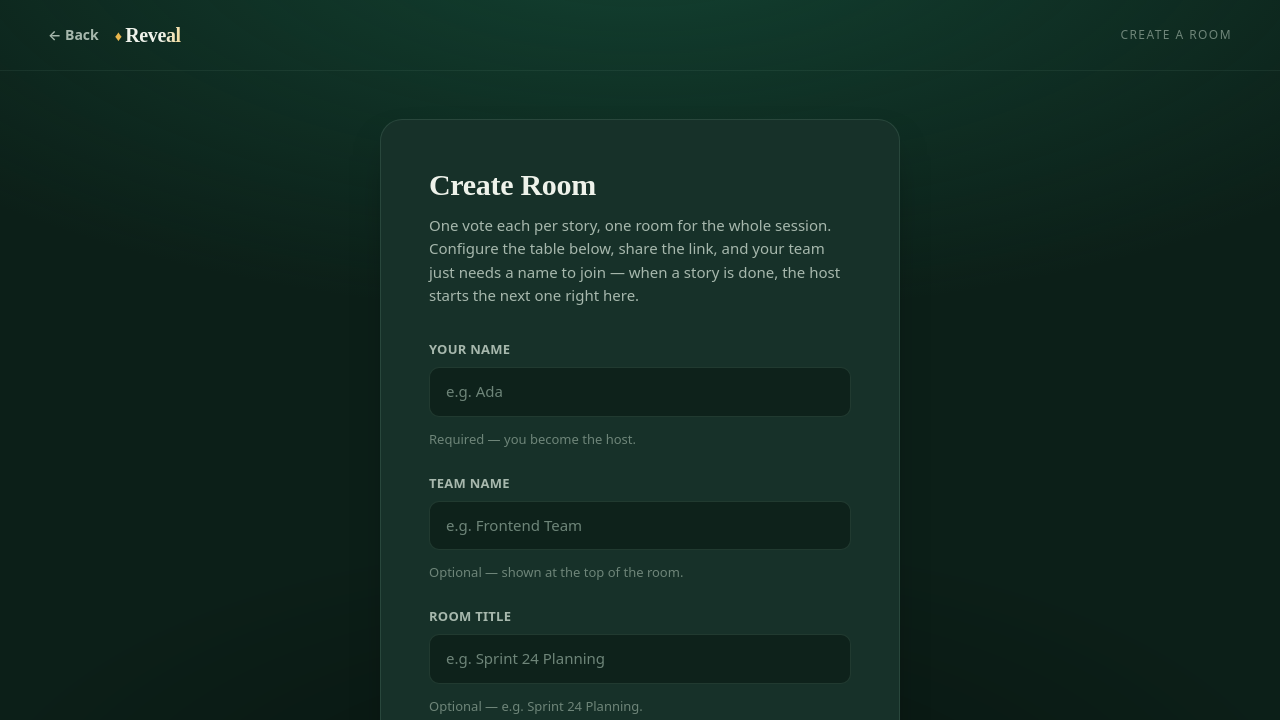
it: CreatePage › shows a friendly server error when creation fails
In the field labelled "Your Name": (640, 392) [429,367,851,417], type "Ada"
(page scrolled)
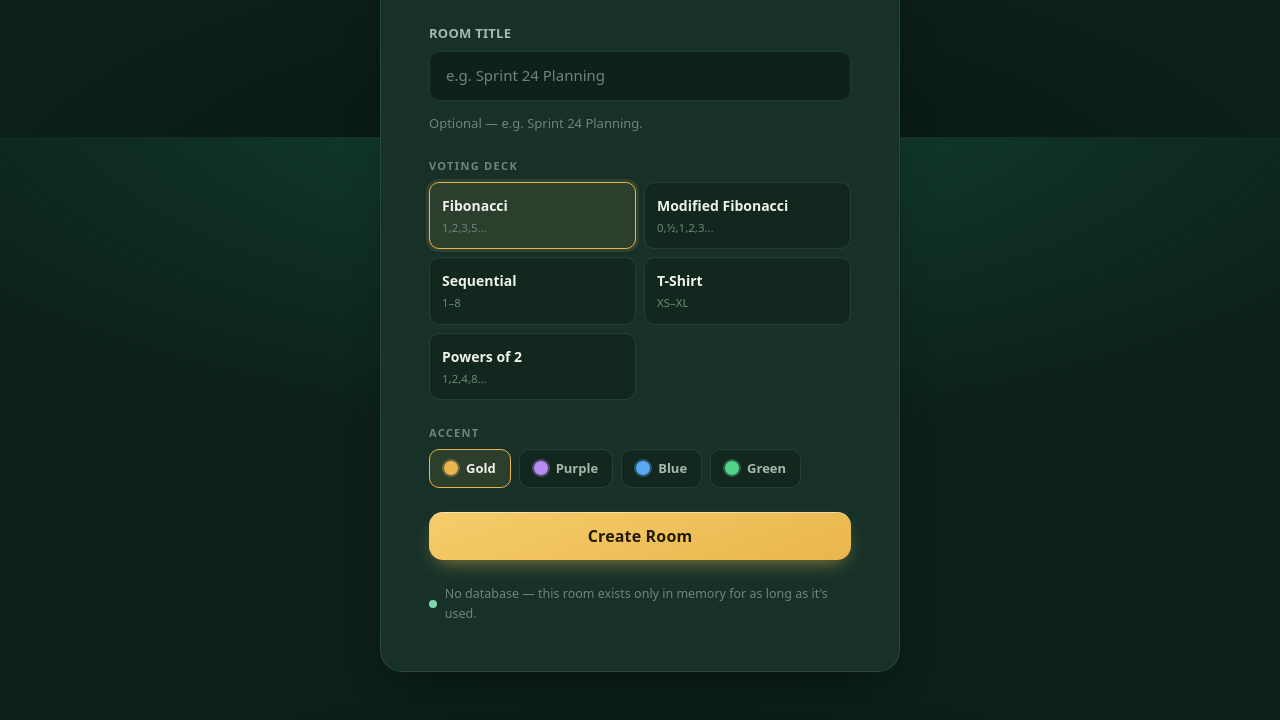
Click the button "Create Room": click(640, 536) [429,512,851,560]
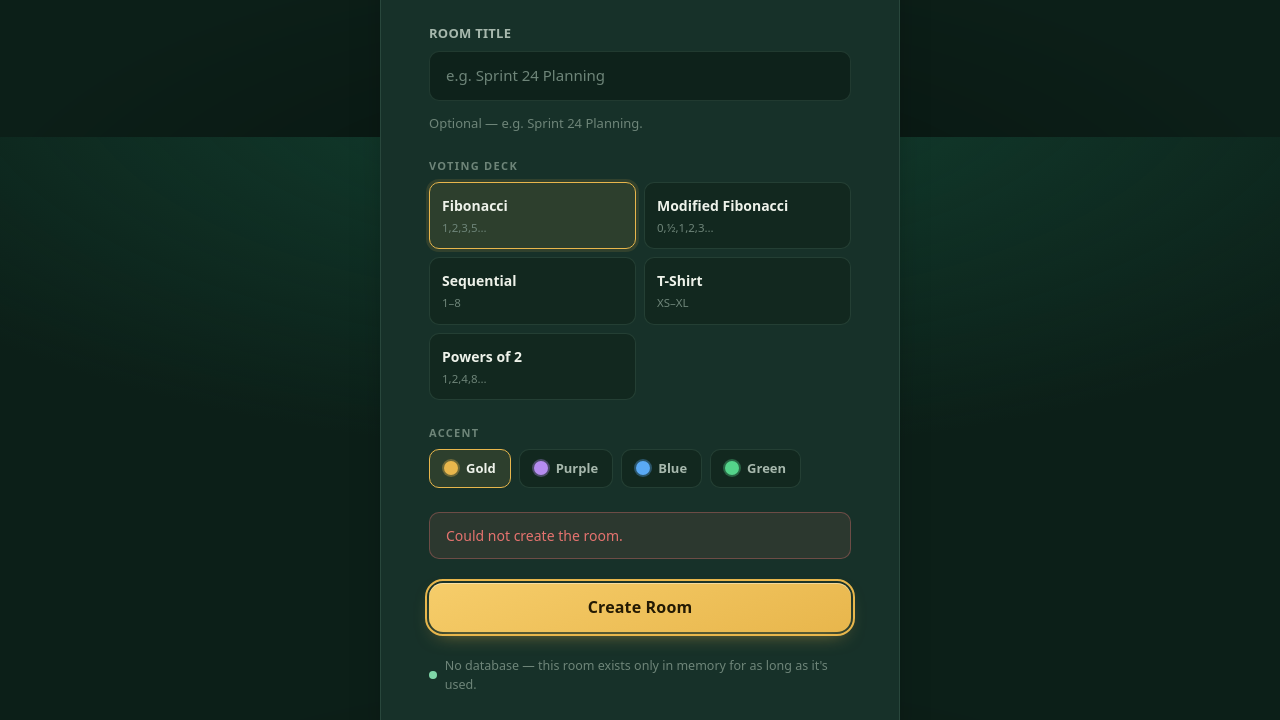
Check: the message reads "Could not create the room.", box [446,526,623,544]
